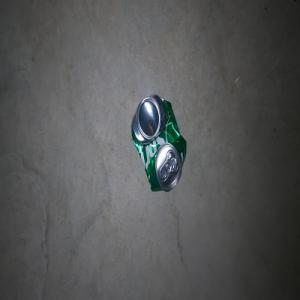SodaCan: (130, 93, 186, 191)
